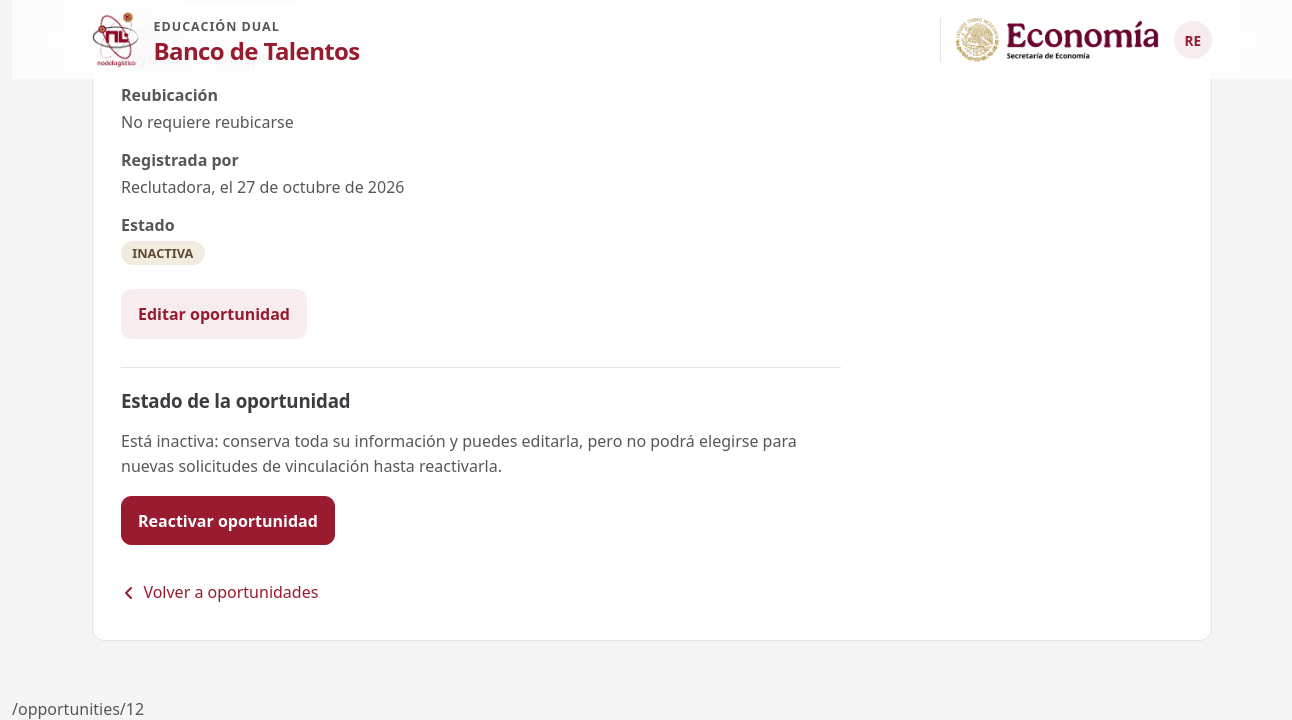
Test: oportunidades duales HU-S5-02 › estado HU-S5-03 › muestra el error junto a la sección y conserva el estado
The width and height of the screenshot is (1292, 720).
(page scrolled)
Click the button "Reactivar oportunidad" at (228, 520), box [121, 496, 335, 545]
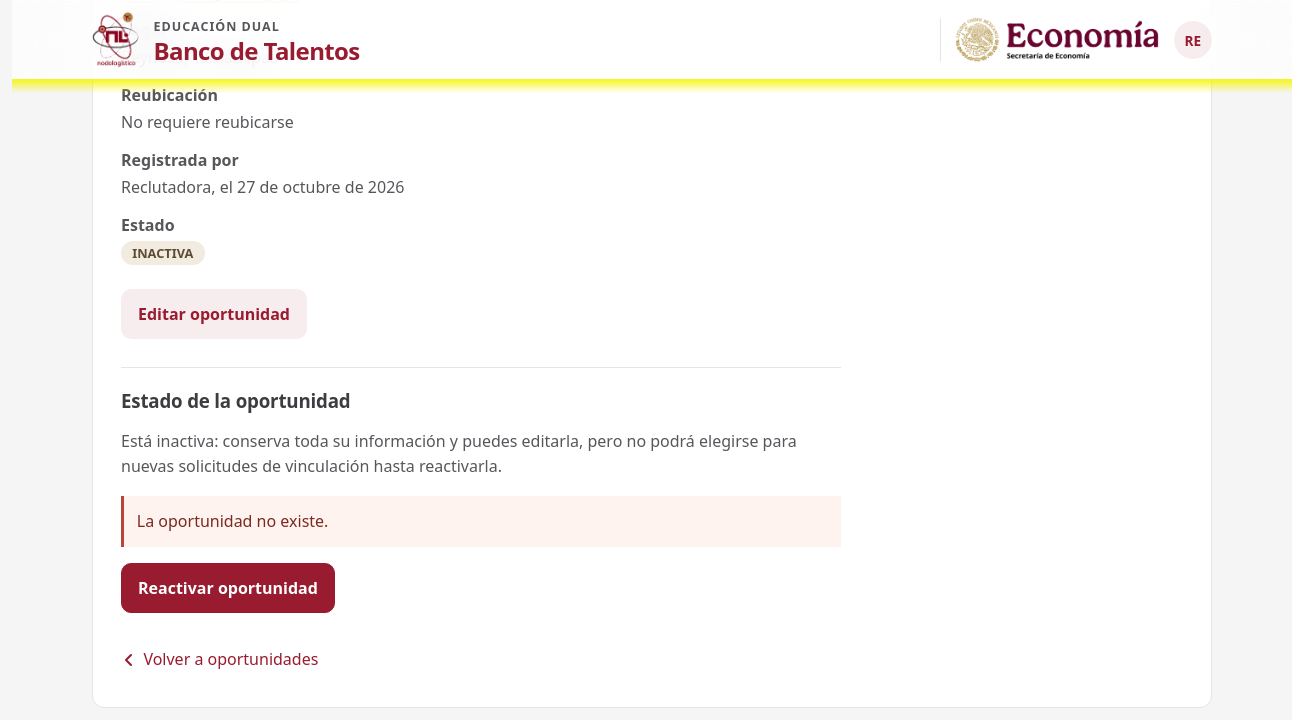
Expected: the text "INACTIVA" is shown, [121, 241, 204, 265]
Expected: the message reads "La oportunidad no existe.", [137, 510, 328, 532]
